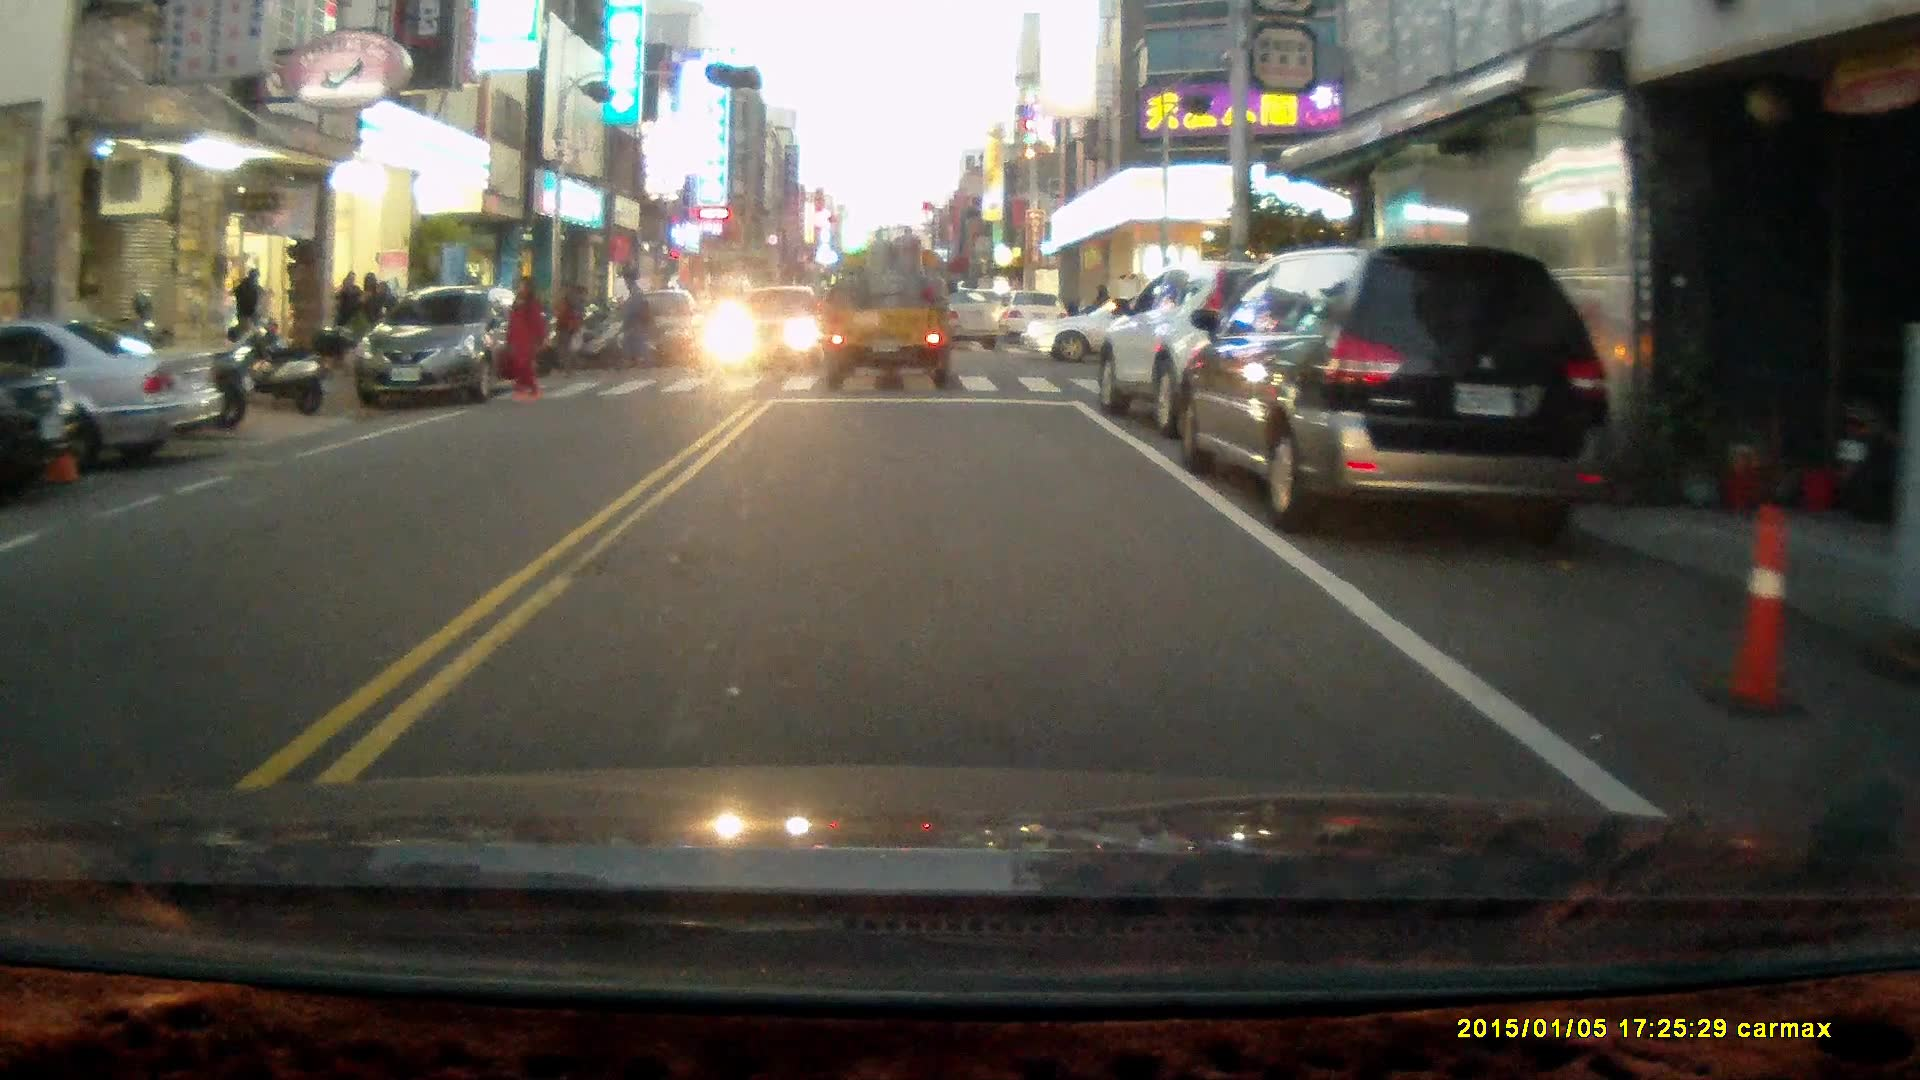pedestrian: (498, 270, 548, 404), (612, 266, 661, 371), (232, 264, 272, 361), (547, 285, 586, 378)
vehicle: (1180, 242, 1612, 548), (1093, 257, 1394, 446), (1, 318, 229, 479), (819, 227, 965, 394), (356, 286, 542, 410), (1022, 292, 1244, 368), (1, 366, 82, 485), (596, 291, 709, 375), (709, 283, 824, 365), (893, 289, 1007, 356)
